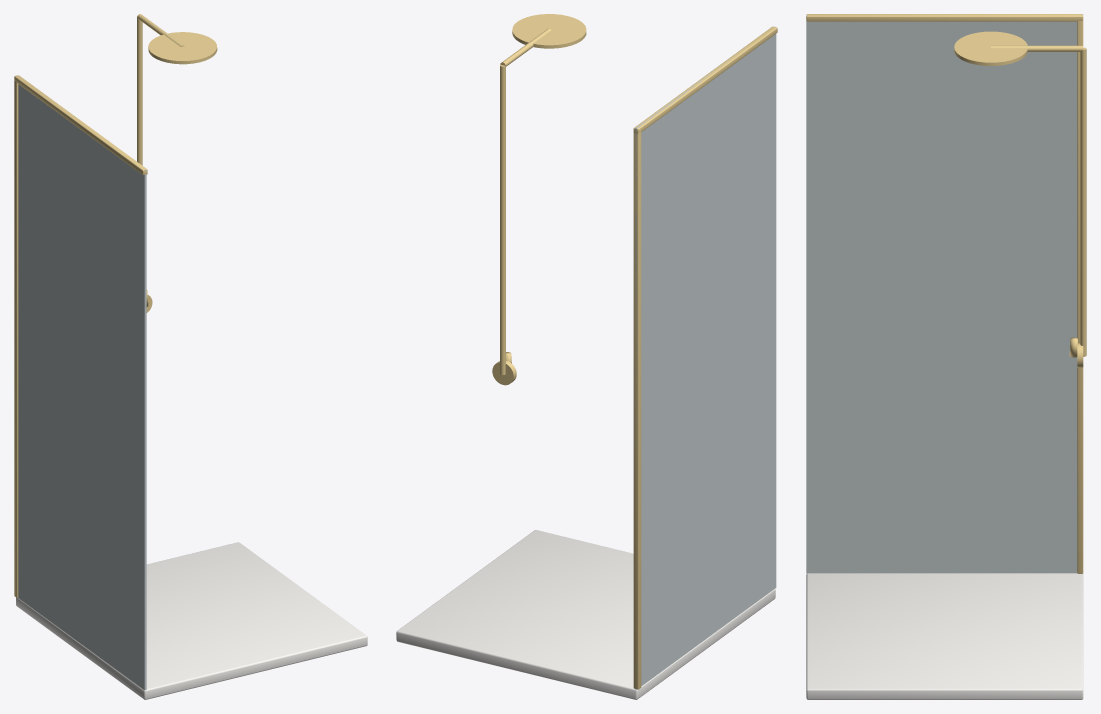
Rendered from shower.glb.
The picture shows the model from 3 angles, left to right: view 1: azimuth 30°, elevation 25°; view 2: azimuth 150°, elevation 25°; view 3: azimuth 270°, elevation 25°; orthographic projection. The views are drawn at different scales.
Visible parts, largest first — view 1: glass, tray, bar2, head, bar, riser; view 2: glass, tray, bar2, head, riser, bar; view 3: glass, tray, bar2, bar, riser, head, arm.
Part boxes in pixels (<box>): glass: <box>15,75,146,690</box>; tray: <box>16,542,367,699</box>; bar2: <box>14,78,18,597</box>; head: <box>148,32,217,64</box>; bar: <box>14,75,147,175</box>; riser: <box>137,16,142,165</box>; glass: <box>635,26,776,689</box>; tray: <box>396,530,775,699</box>; bar2: <box>633,127,641,689</box>; head: <box>512,14,586,48</box>; riser: <box>500,64,505,374</box>; bar: <box>633,26,777,133</box>; glass: <box>806,14,1083,573</box>; tray: <box>806,573,1083,699</box>; bar2: <box>1077,17,1083,573</box>; bar: <box>806,14,1083,21</box>; riser: <box>1080,47,1086,356</box>; head: <box>954,31,1027,65</box>; arm: <box>991,45,1083,51</box>.
Size of the model in its own units: 0.906 by 2.16 by 0.91.
